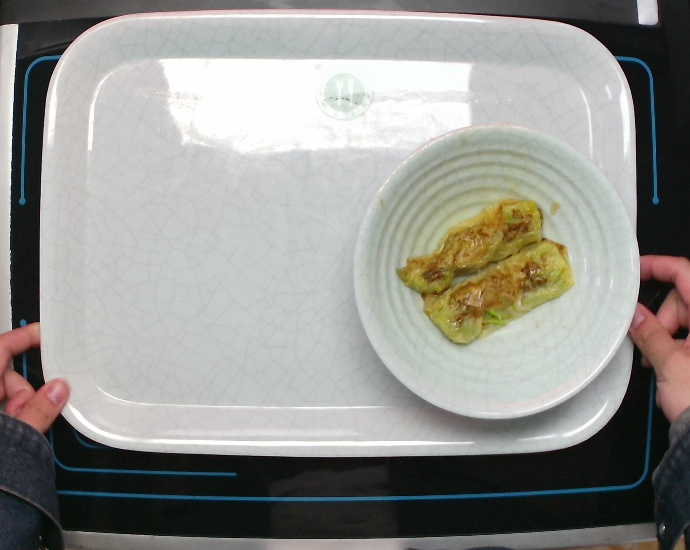JYsf-Xiao_Tang_Wan: (347, 122, 646, 419)
